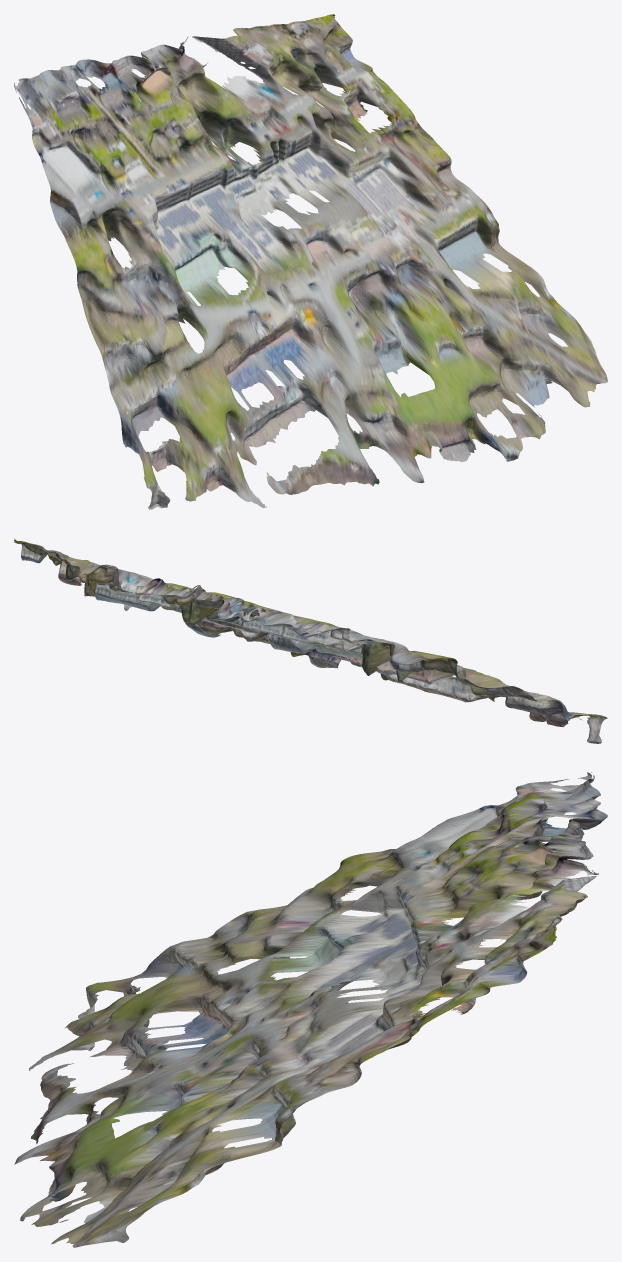
The model's file is render.glb.
3 renders of one model, top to bottom at view 1: azimuth 30°, elevation 25°; view 2: azimuth 150°, elevation 25°; view 3: azimuth 270°, elevation 25°, orthographic. The views are drawn at different scales.
Parts seen in each view (by area): view 1: geometry_0; view 2: geometry_0; view 3: geometry_0.
Boxes of the visible parts, x1,y1,x2,y2 form: geometry_0: (14, 14, 607, 509); geometry_0: (14, 538, 607, 743); geometry_0: (14, 772, 607, 1247).
Size of the model in its own units: 0.543 by 0.2998 by 0.5194.
